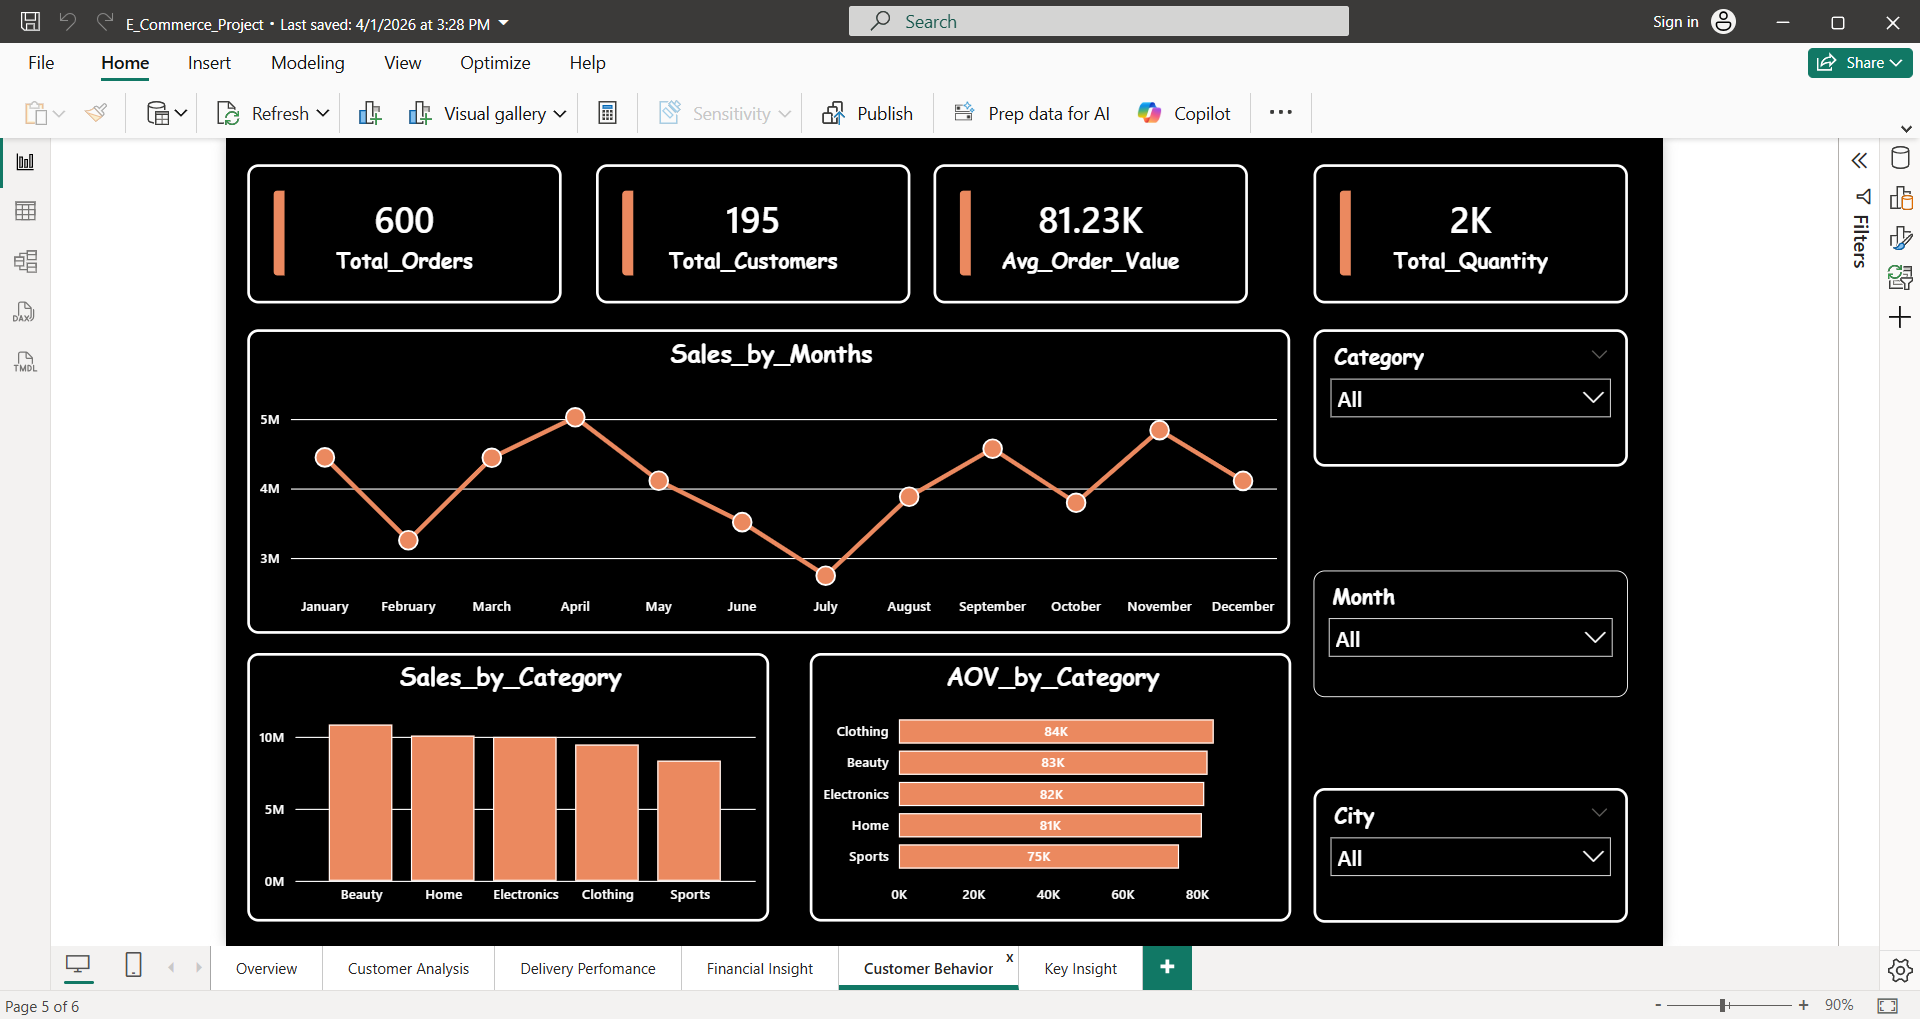

What the dashboard file says about the page in this screenshot:
{"tool":"powerbi","page":{"name":"Customer Behavior","canvas":[1280,720],"ordinal":4},"visuals":[{"type":"cardVisual","fields":{"Data":["Measures_F.Total Orders"]},"box":[18.8,23.1,279.9,124.1],"z":0},{"type":"cardVisual","fields":{"Data":["Measures_F.Total Customers"]},"box":[328.9,23.1,279.9,124.1],"z":1},{"type":"cardVisual","fields":{"Data":["Measures_F.Avg Order Value"]},"box":[630.5,23.1,279.9,124.1],"z":2},{"type":"cardVisual","fields":{"Data":["Measures_F.Total Quantity"]},"box":[968.1,23.1,279.9,124.1],"z":3},{"type":"lineChart","title":"Sales_by_Months","fields":{"Category":["E_Commerce_Dataset.Order_Date.Variation.Date Hierarchy.Month"],"Y":["Sum(E_Commerce_Dataset.Sales)"]},"box":[18.8,170.2,929.1,271.2],"z":4},{"type":"clusteredColumnChart","title":"Sales_by_Category","fields":{"Category":["E_Commerce_Dataset.Category"],"Y":["Sum(E_Commerce_Dataset.Sales)"]},"box":[18.8,458.8,464.6,239.5],"z":5},{"type":"barChart","title":"AOV_by_Category","fields":{"Category":["E_Commerce_Dataset.Category"],"Y":["Measures_F.Avg Order Value"]},"box":[519.4,458.8,428.5,239.5],"z":6},{"type":"slicer","fields":{"Values":["E_Commerce_Dataset.Category"]},"box":[968.1,170.2,279.9,122.6],"z":7},{"type":"slicer","fields":{"Values":["E_Commerce_Dataset.Order_Date.Variation.Date Hierarchy.Month"]},"box":[968.1,385.2,279.9,112.5],"z":8},{"type":"slicer","fields":{"Values":["E_Commerce_Dataset.City"]},"box":[968.1,578.5,279.9,119.7],"z":9}]}

Visuals, with their boxes on the page's 1280x720 design canvas (x1, y1, x2, y2). These are canvas units, not pixel positions in the 1920x1019 screenshot, which may show the page scaled, cropped or inside an application window:
cardVisual - Measures_F.Total Orders: (left=19, top=23, right=299, bottom=147)
cardVisual - Measures_F.Total Customers: (left=329, top=23, right=609, bottom=147)
cardVisual - Measures_F.Avg Order Value: (left=630, top=23, right=910, bottom=147)
cardVisual - Measures_F.Total Quantity: (left=968, top=23, right=1248, bottom=147)
"Sales_by_Months" lineChart: (left=19, top=170, right=948, bottom=441)
"Sales_by_Category" clusteredColumnChart: (left=19, top=459, right=483, bottom=698)
"AOV_by_Category" barChart: (left=519, top=459, right=948, bottom=698)
slicer - E_Commerce_Dataset.Category: (left=968, top=170, right=1248, bottom=293)
slicer - E_Commerce_Dataset.Order_Date.Variation.Date Hierarchy.Month: (left=968, top=385, right=1248, bottom=498)
slicer - E_Commerce_Dataset.City: (left=968, top=578, right=1248, bottom=698)
